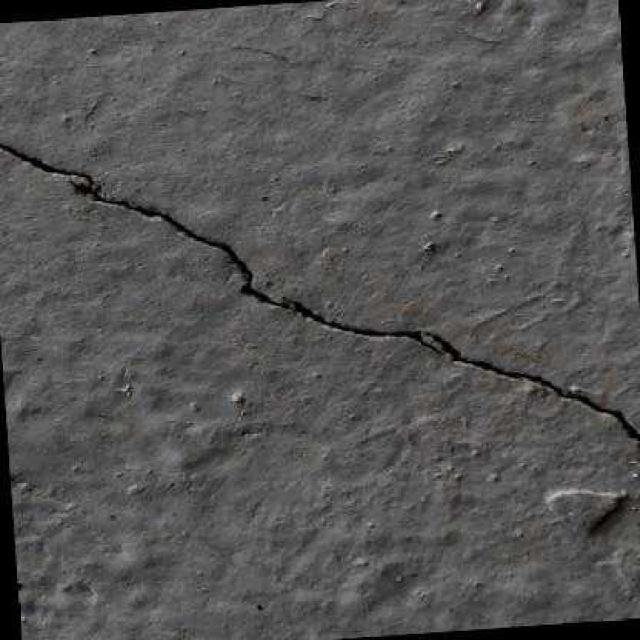D00: (0, 142, 640, 443)
